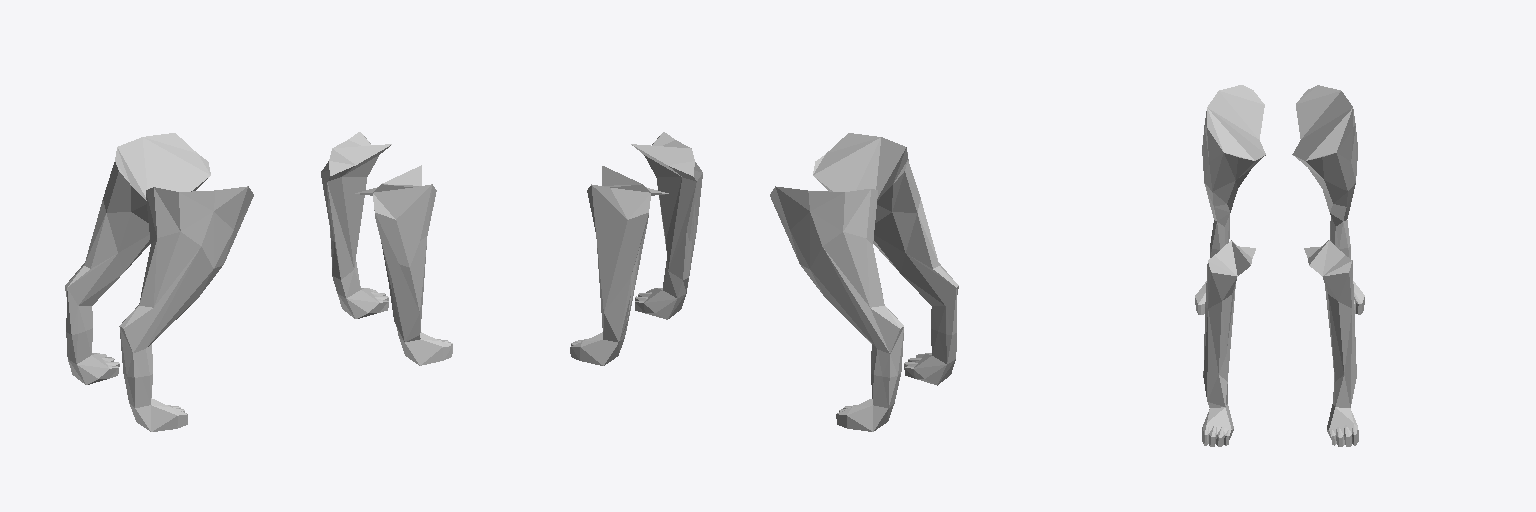
File: wolf_legs.obj
The picture shows the model from 3 angles: view 1: azimuth 30°, elevation 25°; view 2: azimuth 150°, elevation 25°; view 3: azimuth 270°, elevation 25°; orthographic projection.
Parts seen in each view (by area): view 1: Wolf.002; view 2: Wolf.002; view 3: Wolf.002.
Part boxes in pixels (x1,y1,x2,y2): Wolf.002: (65,132,452,431); Wolf.002: (570,132,958,431); Wolf.002: (1195,85,1364,446).
Size of the model in its own units: 1.01 by 0.6706 by 0.4586.